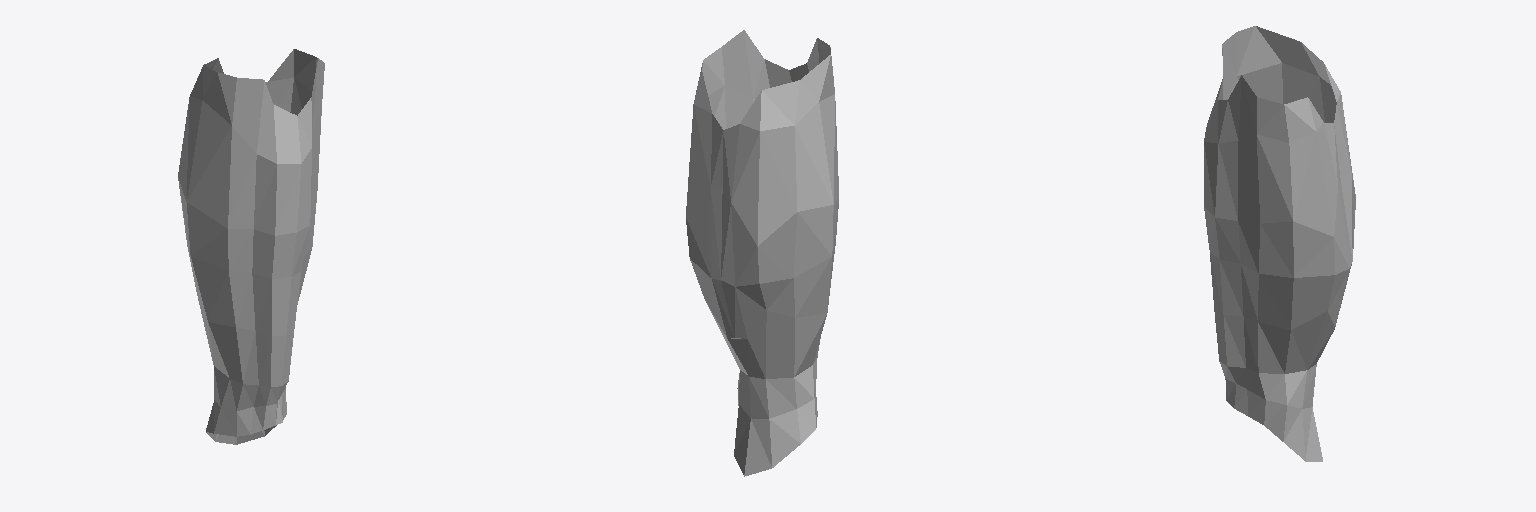
Rendered from Leg_Lower_Right.obj.
The picture shows the model from 3 angles: view 1: azimuth 30°, elevation 25°; view 2: azimuth 150°, elevation 25°; view 3: azimuth 270°, elevation 25°; orthographic projection.
Visible parts, largest first — view 1: Leg_Lower.001_Cube.003; view 2: Leg_Lower.001_Cube.003; view 3: Leg_Lower.001_Cube.003.
Part boxes in pixels (x1,y1,x2,y2): Leg_Lower.001_Cube.003: (178, 49, 324, 444); Leg_Lower.001_Cube.003: (686, 30, 838, 476); Leg_Lower.001_Cube.003: (1204, 26, 1355, 461).
Bounding box in the file's own units: 3.34 × 9.71 × 3.26.